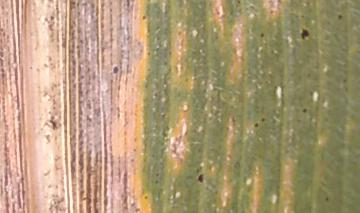tarspot: (193, 172, 211, 187), (298, 26, 312, 42), (109, 62, 122, 77), (334, 9, 347, 23), (255, 30, 269, 41), (300, 105, 310, 118), (252, 119, 260, 133), (321, 194, 332, 204), (139, 13, 149, 22)
